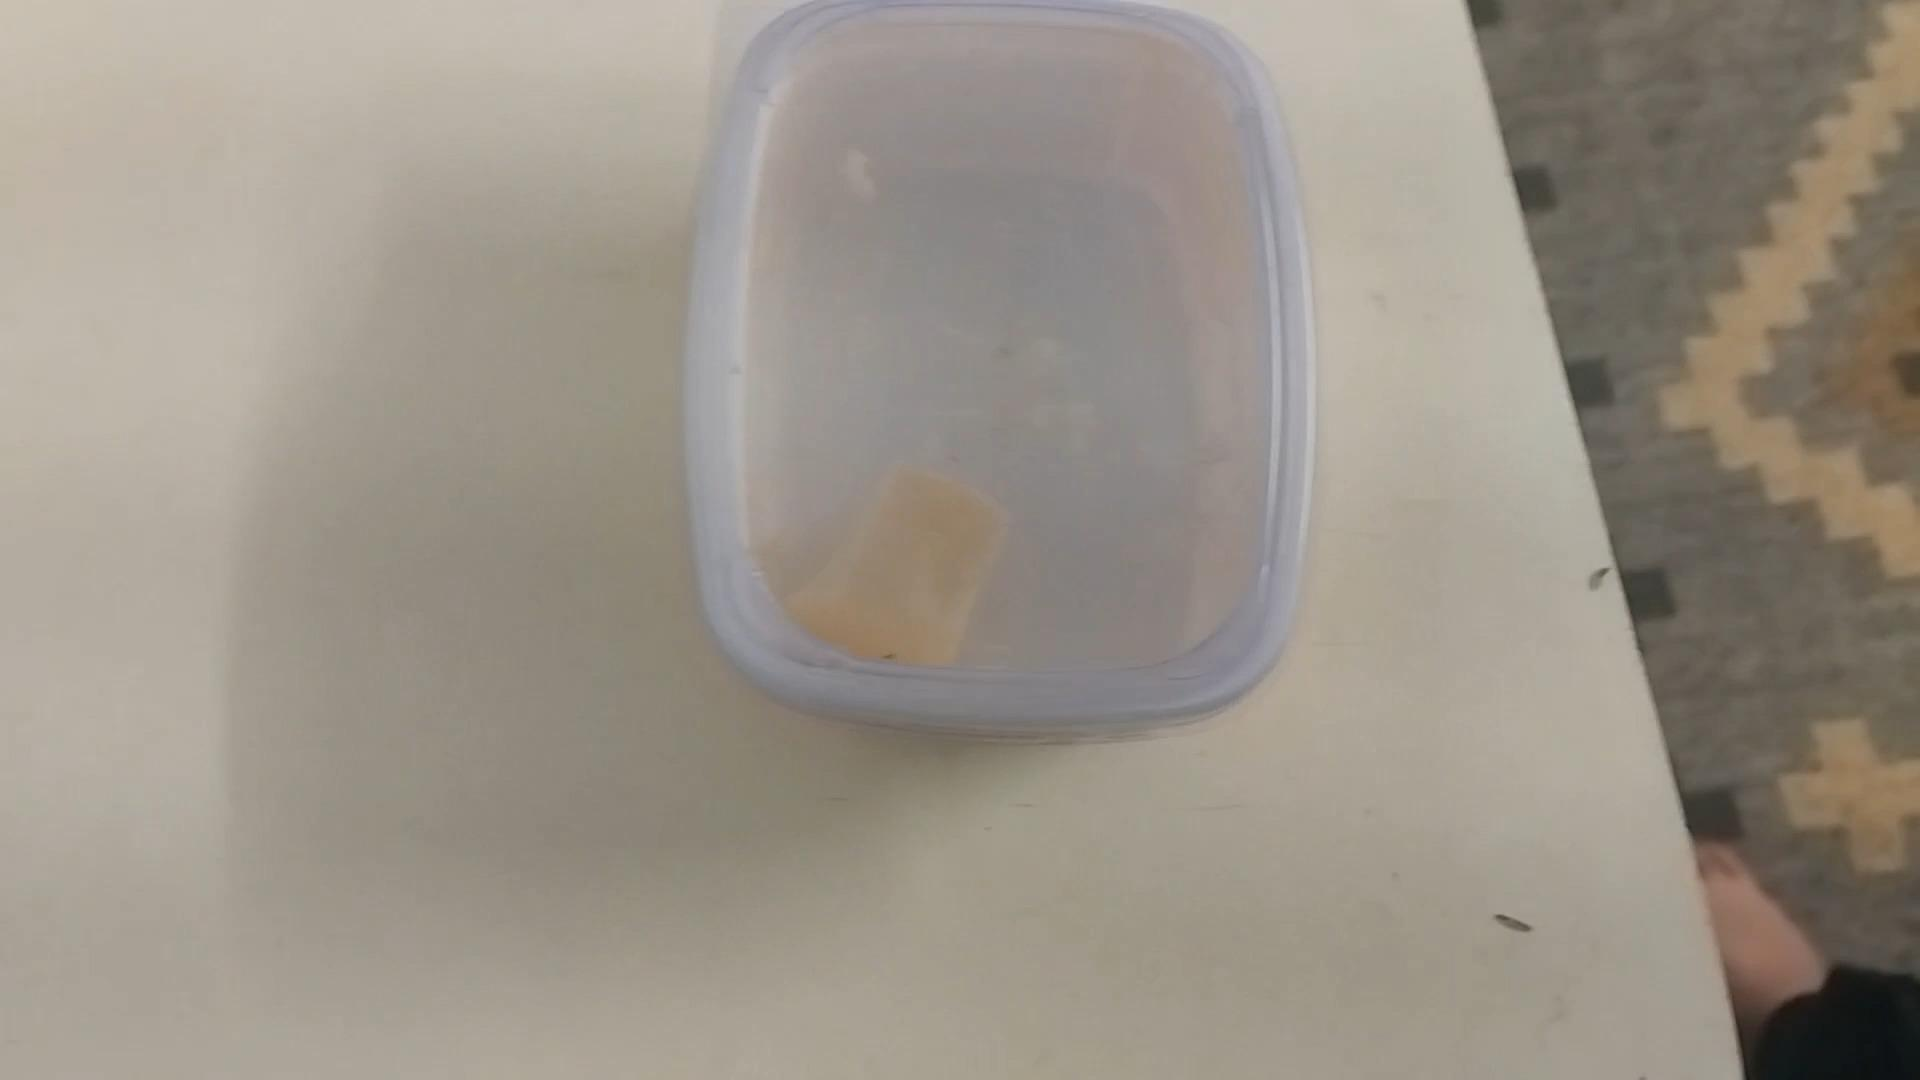butter: (684, 1, 1294, 738)
